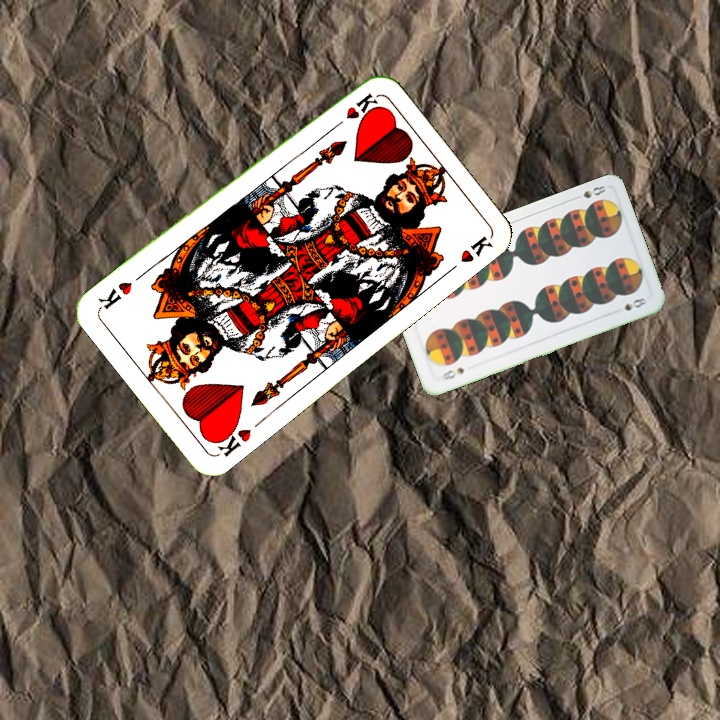HK: (327, 89, 379, 134), (208, 418, 254, 459)
S8: (569, 181, 609, 203), (438, 363, 467, 383)
